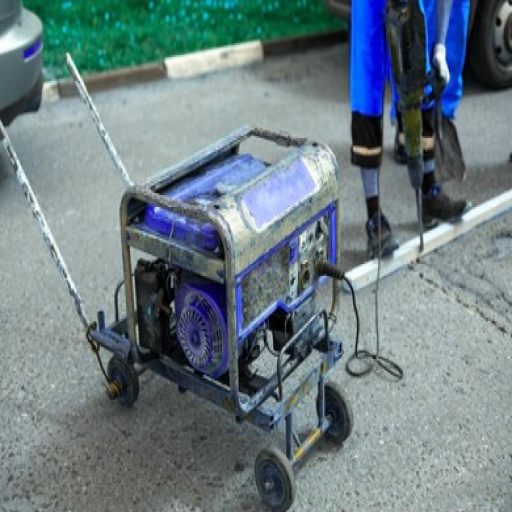portable_generator: (119, 123, 342, 416)
